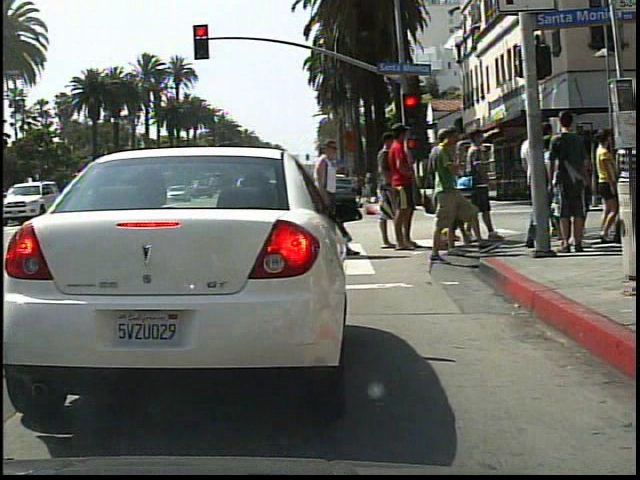person: (305, 130, 352, 262)
